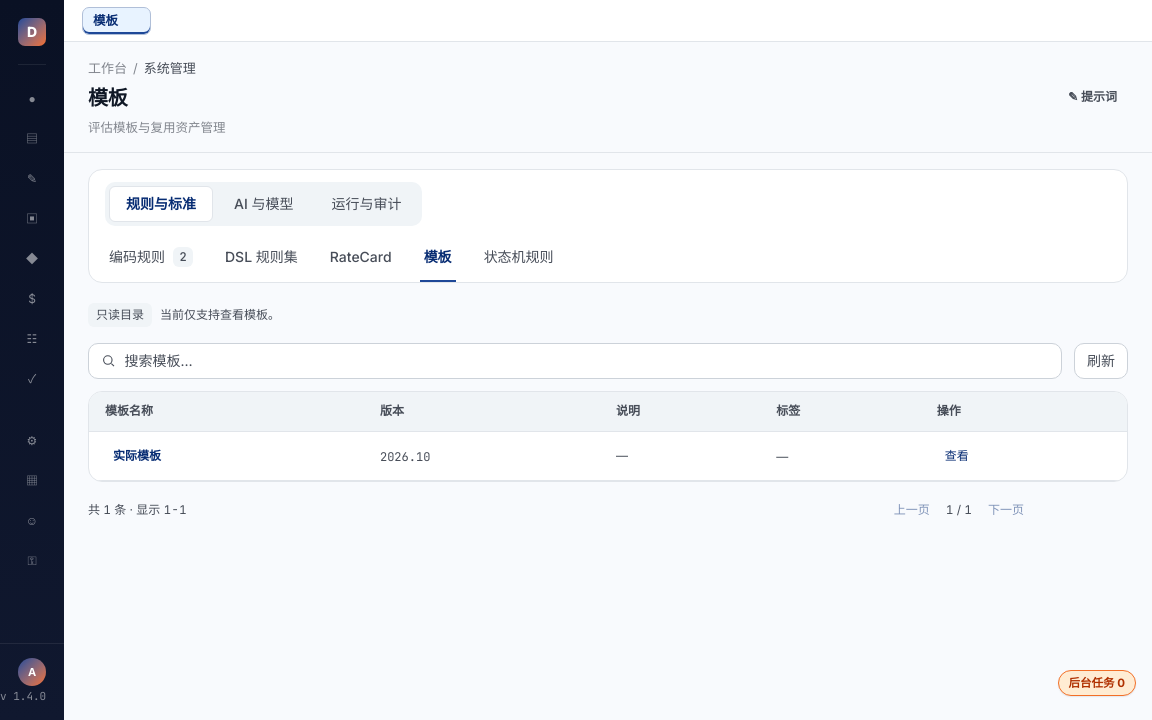
it: 系统规则资产目录统一列表 › 模板按真实 list 响应读取版本，详情可读全量且无虚假使用入口
Check: the button "实际模板" is shown, box [105,440,169,472]
Check: the text "2026.10" is shown, box [380,449,430,465]
What coordinates should you click on to do the following:
click the button with aria-label "查看 实际模板"
I would click on:
 (957, 456)
Its box is [937,440,977,472].
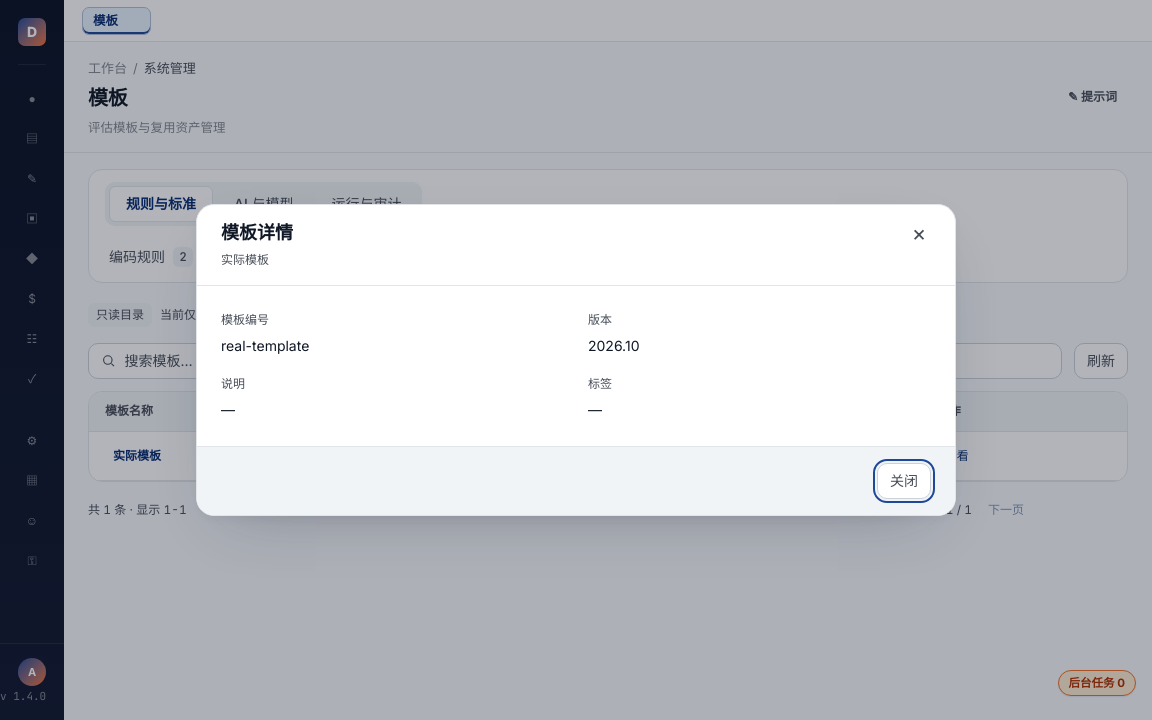
Check: the text "real-template" is shown, box [221,337,309,354]
Check: the text "2026.10" is shown, box [588,337,640,354]
